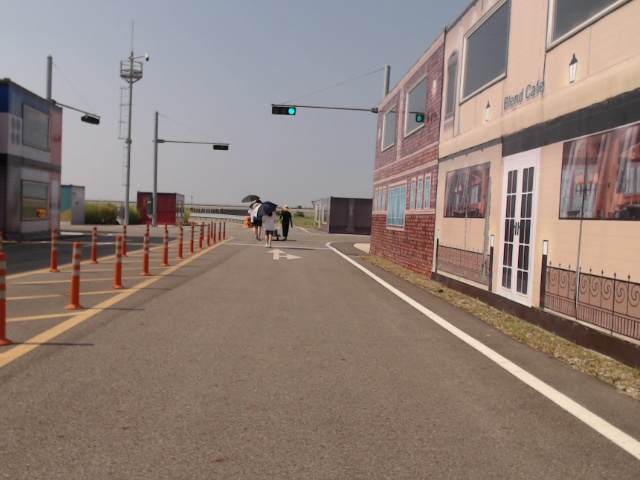green_3: (271, 106, 296, 115)
